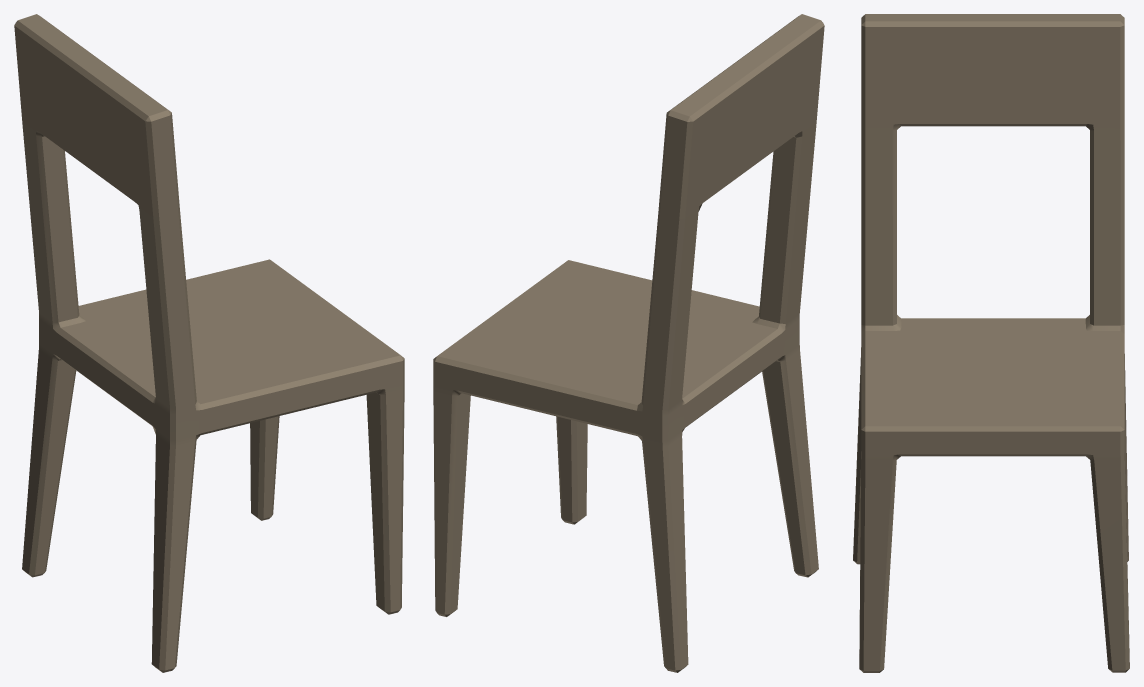
File: chair 1.fbx
The picture shows the model from 3 angles, left to right: view 1: azimuth 30°, elevation 25°; view 2: azimuth 150°, elevation 25°; view 3: azimuth 270°, elevation 25°; orthographic projection. The views are drawn at different scales.
Visible parts, largest first — view 1: pCube6; view 2: pCube6; view 3: pCube6.
Boxes of the visible parts, x1,y1,x2,y2 form: pCube6: [14, 14, 404, 672]; pCube6: [433, 14, 824, 672]; pCube6: [853, 14, 1129, 672].
Size of the model in its own units: 1.11 by 2.27 by 1.05.
